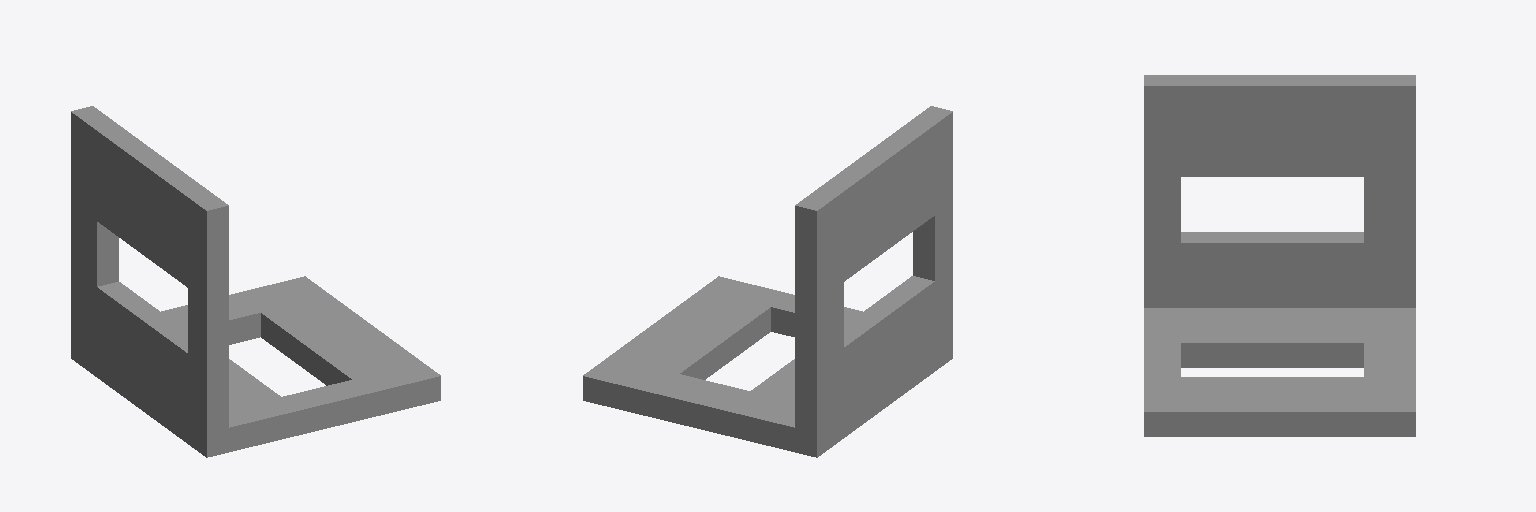
The model's file is metal_carpentry_lbeam.obj.
The picture shows the model from 3 angles: view 1: azimuth 30°, elevation 25°; view 2: azimuth 150°, elevation 25°; view 3: azimuth 270°, elevation 25°; orthographic projection.
Visible parts, largest first — view 1: Cube.001; view 2: Cube.001; view 3: Cube.001.
Boxes of the visible parts, <box> form: Cube.001: <box>71,106,440,457</box>; Cube.001: <box>583,106,952,457</box>; Cube.001: <box>1144,75,1415,436</box>.
Size of the model in its own units: 0.9954 by 1 by 1.